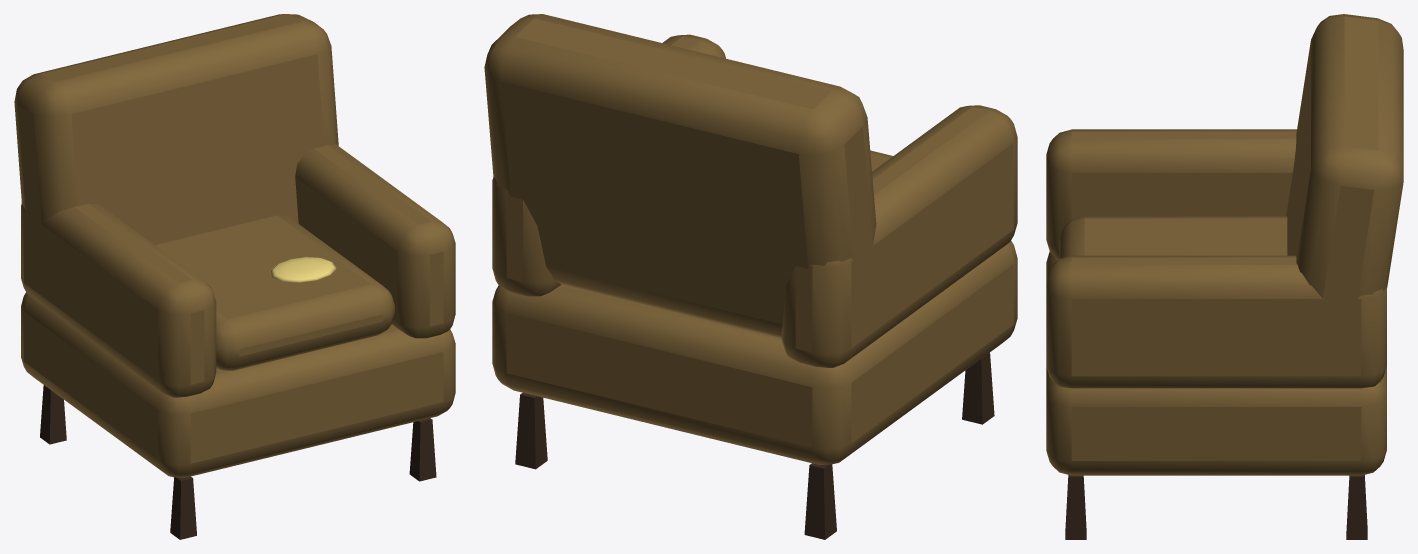
File: armchair_old.fbx
The picture shows the model from 3 angles, left to right: view 1: azimuth 30°, elevation 25°; view 2: azimuth 150°, elevation 25°; view 3: azimuth 270°, elevation 25°; orthographic projection. The views are drawn at different scales.
Parts seen in each view (by area): view 1: armchair_old; view 2: armchair_old; view 3: armchair_old.
Part boxes in pixels (bbox=[...]): armchair_old: bbox=[14, 14, 455, 539]; armchair_old: bbox=[484, 14, 1017, 539]; armchair_old: bbox=[1046, 14, 1403, 539].
Size of the model in its own units: 0.86 by 1.01 by 0.8395.
